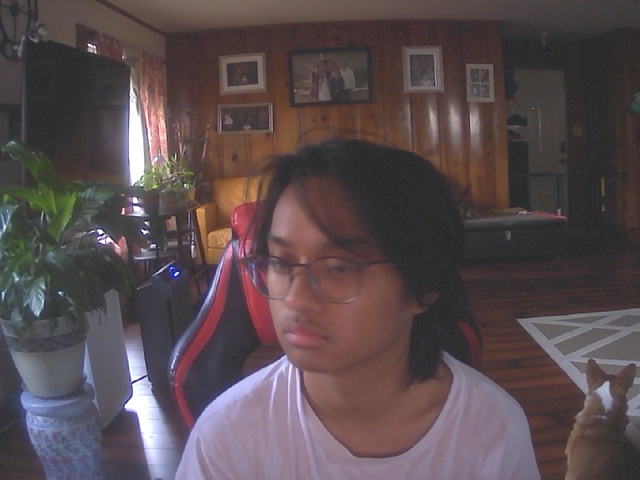neutral: (242, 147, 443, 379)
